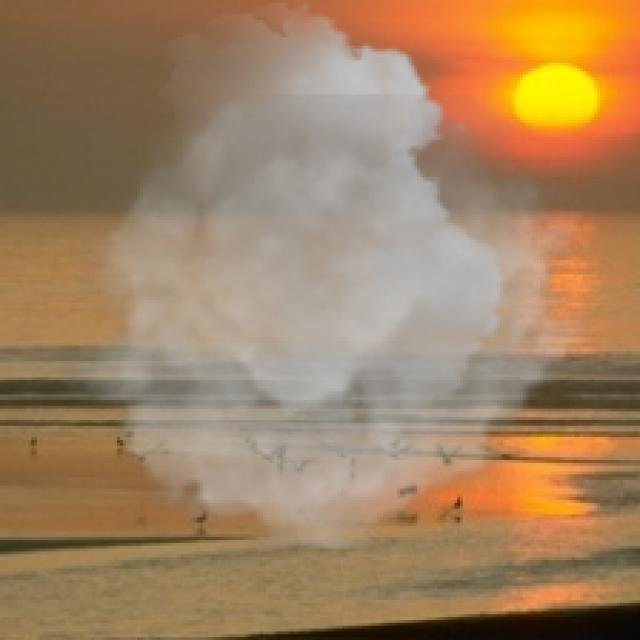Smoke: (60, 2, 603, 548)
